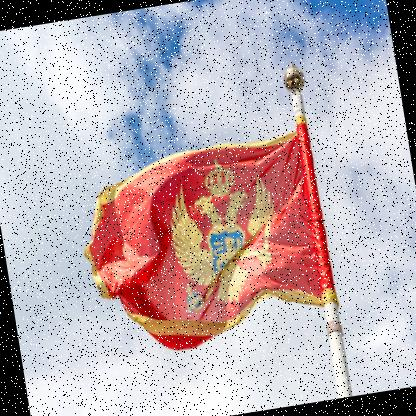me: (68, 116, 342, 364)
